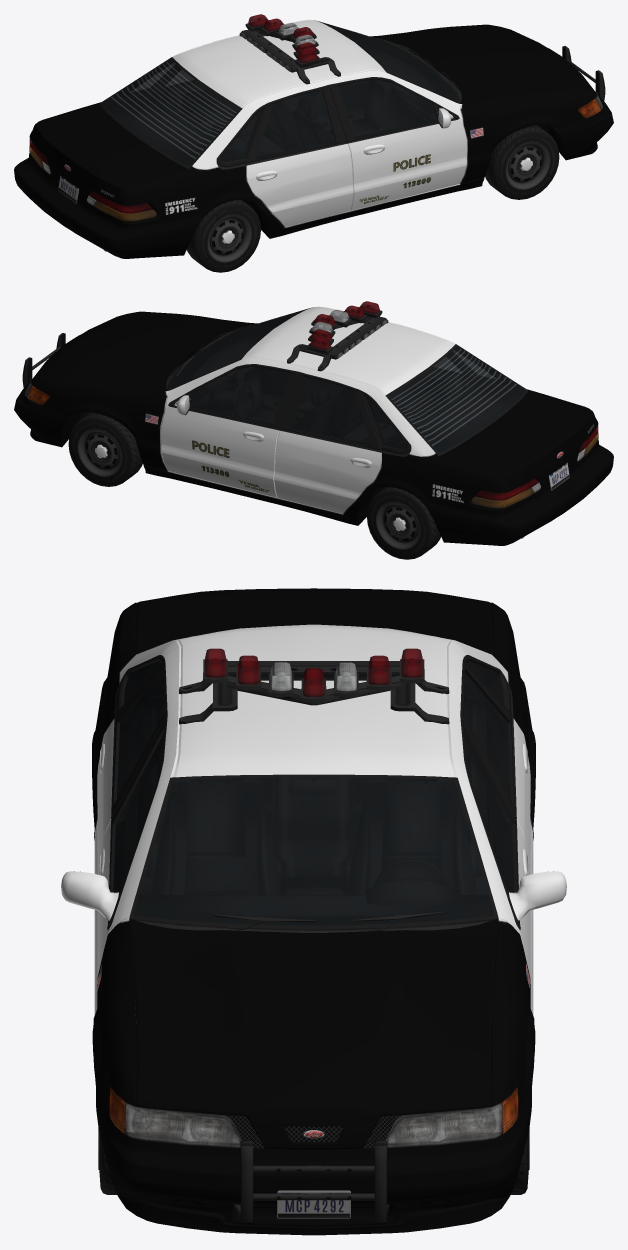
Rendered from car_cop.glb.
3 renders of one model, top to bottom at view 1: azimuth 30°, elevation 25°; view 2: azimuth 150°, elevation 25°; view 3: azimuth 270°, elevation 25°, orthographic. The views are drawn at different scales.
Parts seen in each view (by area): view 1: Murphy92_Body001_Murphy92_Bodymat_0, Murphy92_Interior001_UCB_Interior_Trim_0, Murphy92_Hood001_Murphy92_Bodymat_0, Murphy92_Trunkdoor001_Murphy92_Bodymat_0, Murphy92_Glass_Rear001_UCB_Lights_and_Glass_Transperent_0, Murphy92_Bottom001_UCB_BOTTOM_GT_0, Murphy92_Bumper_rear001_Murphy92_Bodymat_0, Murphy92_Glass_Body001_UCB_Lights_and_Glass_Transperent_0, Murphy92_WheelStamp_FR_RB1c_Tire_1k_0, Murphy92_Glass_Passanger001_UCB_Lights_and_Glass_Transperent, Murphy92_WheelStamp_RR_RB1c_Tire_1k_0, Murphy92_Windshield001_UCB_Lights_and_Glass_Transperent_0 (+7 smaller); view 2: Murphy92_Body001_Murphy92_Bodymat_0, Murphy92_Interior001_UCB_Interior_Trim_0, Murphy92_Hood001_Murphy92_Bodymat_0, Murphy92_Trunkdoor001_Murphy92_Bodymat_0, Murphy92_Glass_Rear001_UCB_Lights_and_Glass_Transperent_0, Murphy92_Bottom001_UCB_BOTTOM_GT_0, Murphy92_Bumper_rear001_Murphy92_Bodymat_0, Murphy92_Glass_Body001_UCB_Lights_and_Glass_Transperent_0, Murphy92_WheelStamp_FL_RB1c_Tire_1k_0, Murphy92_Glass_Driver001_UCB_Lights_and_Glass_Transperent_0, Murphy92_WheelStamp_RL_RB1c_Tire_1k_0, Murphy92_Windshield001_UCB_Lights_and_Glass_Transperent_0 (+8 smaller); view 3: Murphy92_Hood001_Murphy92_Bodymat_0, Murphy92_Body001_Murphy92_Bodymat_0, Murphy92_Interior001_UCB_Interior_Trim_0, Murphy92_Windshield001_UCB_Lights_and_Glass_Transperent_0, Murphy92_Bumper_Front001_Murphy92_Bodymat_0, Murphy92_Bottom001_UCB_BOTTOM_GT_0, Murphy92_Trunkdoor001_Murphy92_Bodymat_0, Murphy92_Lightbar_UCB_BOTTOM_GT_0, Murphy92_Headlights_Glass001_UCB_Lights_and_Glass_Transperen, Murphy92_Headlights001_UCB_Lights_and_Glass_0, Murphy92_Glass_Body001_UCB_Lights_and_Glass_Transperent_0, Murphy92_Lightbar_Glass_UCB_Lights_and_Glass_Transperent_0 (+5 smaller).
Boxes of the visible parts, <box> form: Murphy92_Body001_Murphy92_Bodymat_0: <box>29,19,596,238</box>; Murphy92_Interior001_UCB_Interior_Trim_0: <box>103,21,457,165</box>; Murphy92_Hood001_Murphy92_Bodymat_0: <box>371,26,596,103</box>; Murphy92_Trunkdoor001_Murphy92_Bodymat_0: <box>31,104,188,203</box>; Murphy92_Glass_Rear001_UCB_Lights_and_Glass_Transperent_0: <box>103,59,239,165</box>; Murphy92_Bottom001_UCB_BOTTOM_GT_0: <box>100,21,566,251</box>; Murphy92_Bumper_rear001_Murphy92_Bodymat_0: <box>14,157,205,258</box>; Murphy92_Glass_Body001_UCB_Lights_and_Glass_Transperent_0: <box>132,63,335,161</box>; Murphy92_WheelStamp_FR_RB1c_Tire_1k_0: <box>485,125,559,199</box>; Murphy92_Glass_Passanger001_UCB_Lights_and_Glass_Transperent: <box>338,79,437,138</box>; Murphy92_WheelStamp_RR_RB1c_Tire_1k_0: <box>187,200,260,272</box>; Murphy92_Windshield001_UCB_Lights_and_Glass_Transperent_0: <box>318,21,457,102</box>; Murphy92_Body001_Murphy92_Bodymat_0: <box>31,306,598,525</box>; Murphy92_Interior001_UCB_Interior_Trim_0: <box>170,308,524,452</box>; Murphy92_Hood001_Murphy92_Bodymat_0: <box>31,313,256,390</box>; Murphy92_Trunkdoor001_Murphy92_Bodymat_0: <box>439,391,596,490</box>; Murphy92_Glass_Rear001_UCB_Lights_and_Glass_Transperent_0: <box>389,346,524,452</box>; Murphy92_Bottom001_UCB_BOTTOM_GT_0: <box>61,308,527,538</box>; Murphy92_Bumper_rear001_Murphy92_Bodymat_0: <box>422,444,613,545</box>; Murphy92_Glass_Body001_UCB_Lights_and_Glass_Transperent_0: <box>292,350,495,448</box>; Murphy92_WheelStamp_FL_RB1c_Tire_1k_0: <box>68,412,142,486</box>; Murphy92_Glass_Driver001_UCB_Lights_and_Glass_Transperent_0: <box>190,366,289,425</box>; Murphy92_WheelStamp_RL_RB1c_Tire_1k_0: <box>367,487,440,559</box>; Murphy92_Windshield001_UCB_Lights_and_Glass_Transperent_0: <box>170,308,309,389</box>; Murphy92_Hood001_Murphy92_Bodymat_0: <box>129,918,498,1149</box>; Murphy92_Body001_Murphy92_Bodymat_0: <box>61,602,566,1116</box>; Murphy92_Interior001_UCB_Interior_Trim_0: <box>113,661,514,925</box>; Murphy92_Windshield001_UCB_Lights_and_Glass_Transperent_0: <box>133,777,494,925</box>; Murphy92_Bumper_Front001_Murphy92_Bodymat_0: <box>96,1086,531,1235</box>; Murphy92_Bottom001_UCB_BOTTOM_GT_0: <box>74,655,553,1235</box>; Murphy92_Trunkdoor001_Murphy92_Bodymat_0: <box>134,588,493,655</box>; Murphy92_Lightbar_UCB_BOTTOM_GT_0: <box>179,658,449,724</box>; Murphy92_Headlights_Glass001_UCB_Lights_and_Glass_Transperen: <box>109,1087,518,1147</box>; Murphy92_Headlights001_UCB_Lights_and_Glass_0: <box>125,1103,502,1147</box>; Murphy92_Glass_Body001_UCB_Lights_and_Glass_Transperent_0: <box>117,661,510,797</box>; Murphy92_Lightbar_Glass_UCB_Lights_and_Glass_Transperent_0: <box>205,648,422,697</box>.
Size of the model in its own units: 5.01 by 1.55 by 2.05.
Materials: 8 (8 with a texture image).
